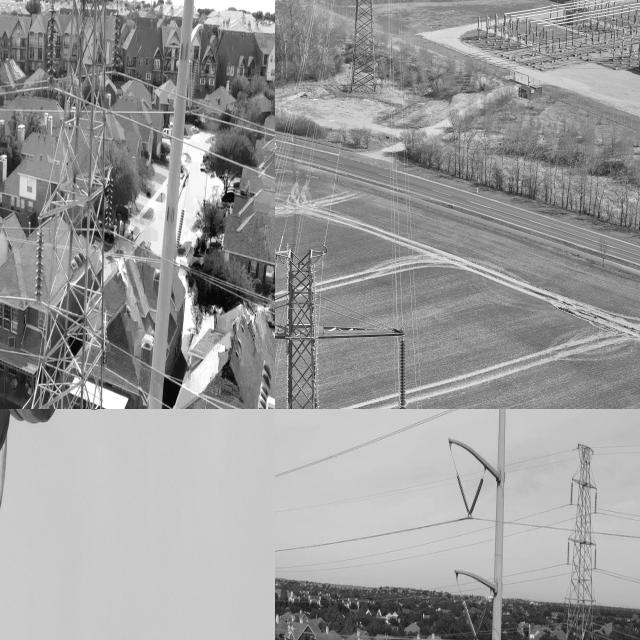杆塔: (31, 0, 124, 409), (275, 247, 403, 409), (541, 433, 608, 640)
正常电缆: (128, 113, 275, 187), (280, 63, 323, 241), (134, 349, 238, 409), (324, 63, 353, 243), (386, 24, 398, 409), (275, 54, 304, 168), (294, 123, 317, 248), (405, 223, 420, 409), (275, 136, 293, 216), (275, 126, 290, 184), (275, 340, 283, 384)
正常绝缘子: (0, 409, 275, 624), (462, 469, 490, 528), (449, 462, 474, 523), (44, 0, 58, 97), (458, 591, 483, 640), (111, 0, 124, 88), (34, 220, 46, 308), (471, 596, 493, 640), (105, 176, 116, 233), (399, 339, 407, 409), (562, 532, 572, 568), (591, 536, 600, 574), (568, 472, 575, 509), (592, 492, 600, 523), (563, 597, 566, 623), (594, 600, 597, 626)
